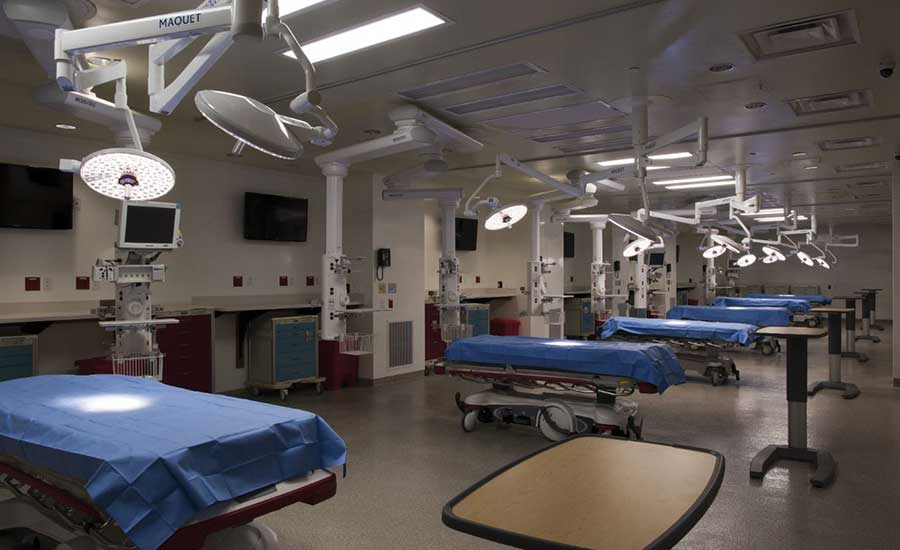TV: (1, 162, 74, 232), (244, 192, 308, 242), (454, 218, 479, 251), (563, 232, 575, 258), (649, 253, 664, 267)
bedside_monitor: (117, 201, 180, 251)
medical_drawer: (245, 316, 321, 396), (1, 334, 42, 371), (566, 296, 601, 339), (461, 303, 490, 336)
operating_bed: (1, 375, 348, 550), (434, 334, 678, 441), (601, 317, 758, 385), (666, 292, 830, 355)
overbed_table: (439, 437, 723, 550), (749, 327, 837, 487), (808, 303, 860, 400)
surgical_light: (194, 89, 310, 158), (76, 145, 177, 200), (610, 213, 657, 257), (485, 205, 530, 232), (703, 234, 740, 258), (761, 246, 786, 263), (737, 254, 757, 267), (796, 251, 813, 266), (816, 257, 830, 269)
telephone: (376, 247, 391, 282)
waste_bin: (319, 340, 359, 387), (491, 318, 520, 336)
